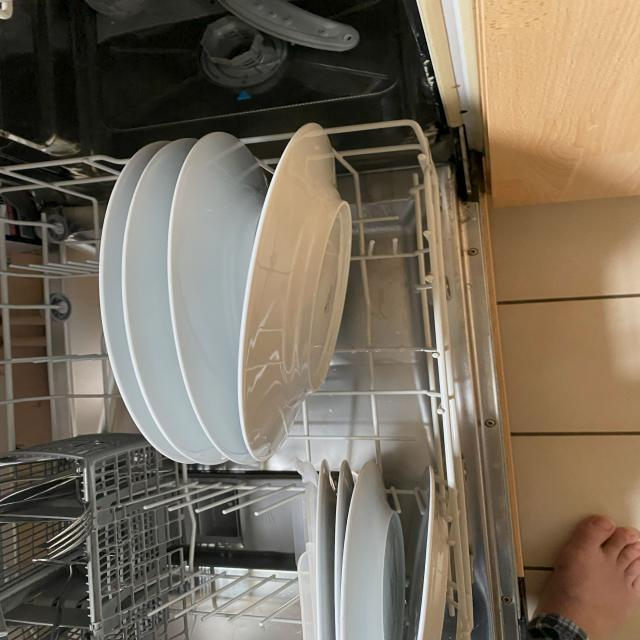clutery_bin: (7, 461, 86, 640)
empty_slot: (145, 476, 296, 640), (356, 170, 429, 448), (6, 191, 83, 434)
